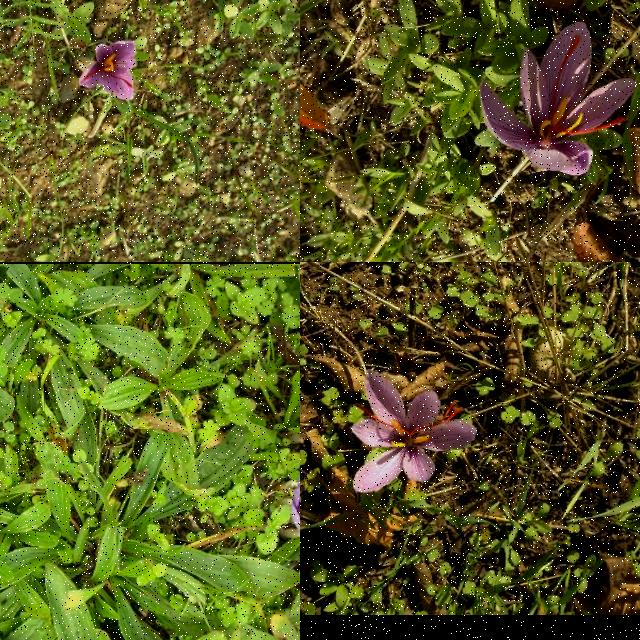flower: (478, 22, 640, 176), (354, 371, 478, 493), (80, 41, 138, 101)
